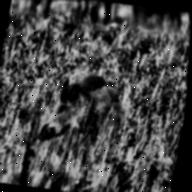boar: (41, 58, 132, 151)
